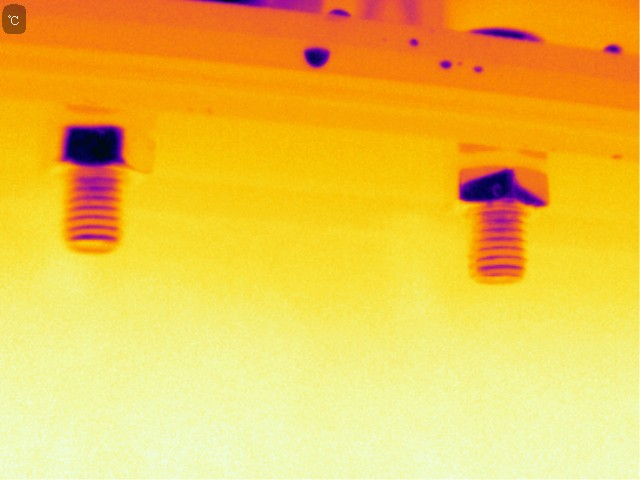Water: (297, 44, 343, 73), (402, 35, 431, 52), (439, 57, 455, 78), (471, 62, 489, 79)
